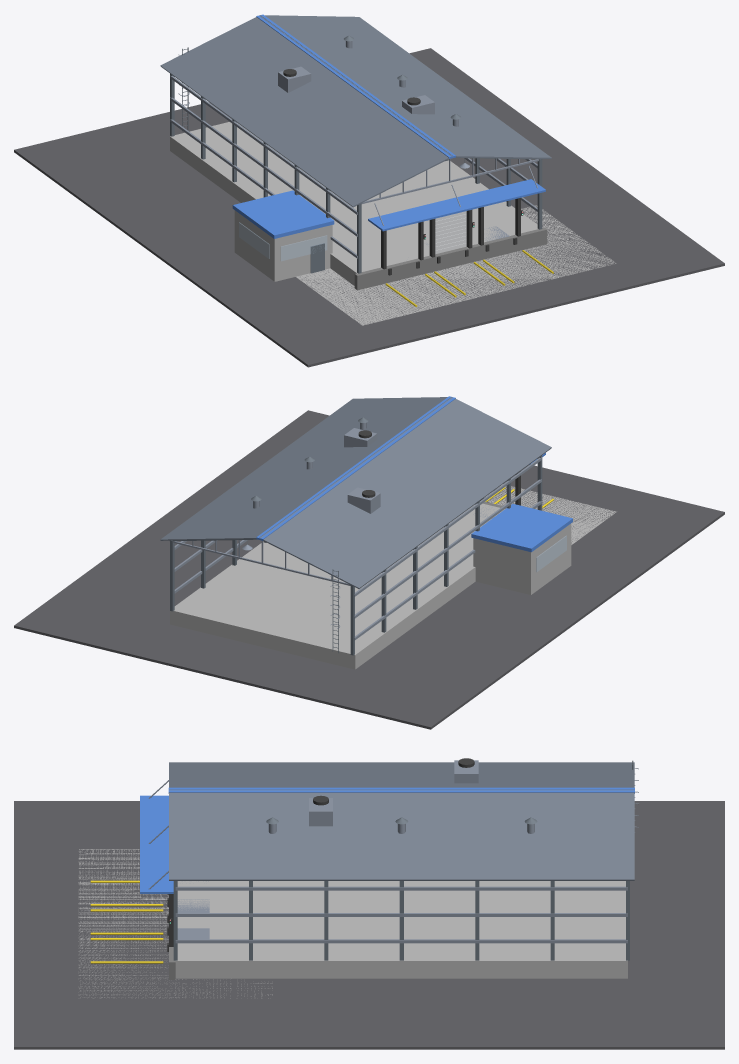
File: gantry-model.gltf
The picture shows the model from 3 angles, top to bottom: view 1: azimuth 30°, elevation 25°; view 2: azimuth 150°, elevation 25°; view 3: azimuth 270°, elevation 25°; orthographic projection. The views are drawn at different scales.
Bounding box in the file's own units: 36 × 9.7 × 44.
